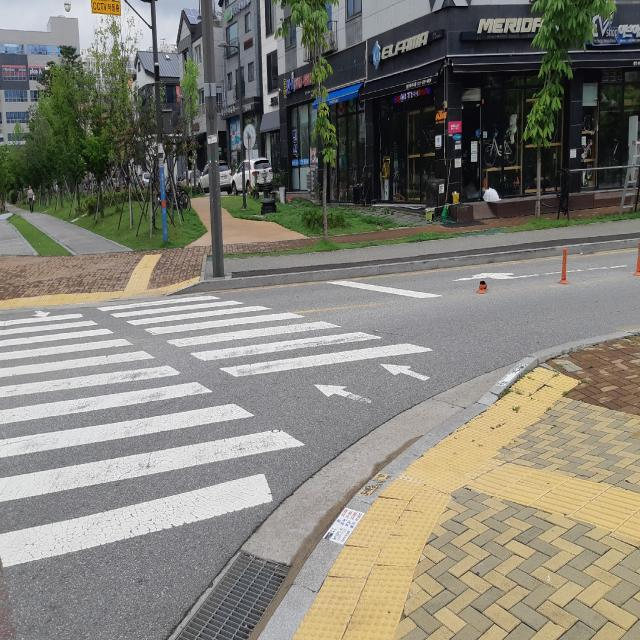횡단보도: (0, 288, 435, 572)
